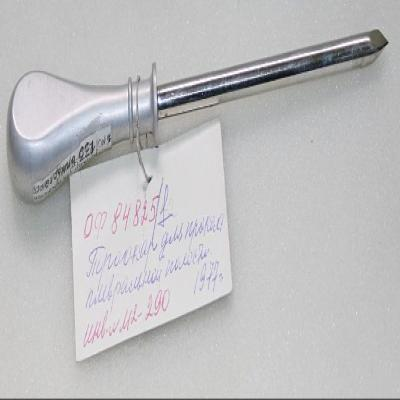other: (7, 31, 388, 205)
